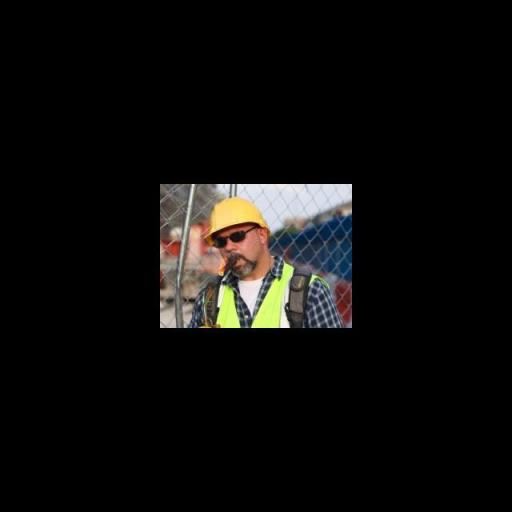Person: (188, 194, 350, 336)
goggles: (202, 224, 269, 251)
helmet: (201, 198, 273, 239)
vest: (213, 256, 333, 326)
